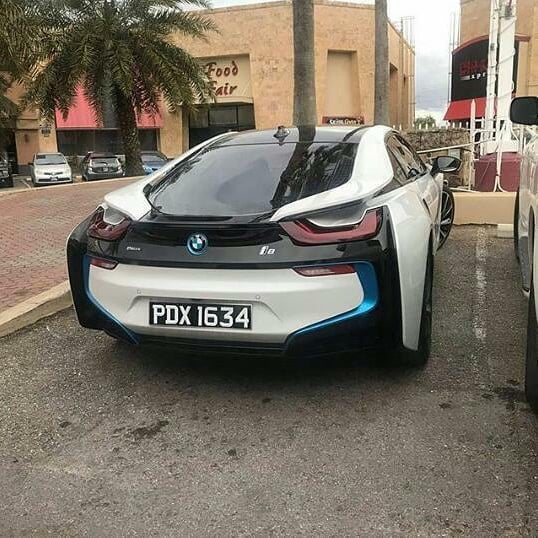License-Plate: (150, 301, 251, 325)
